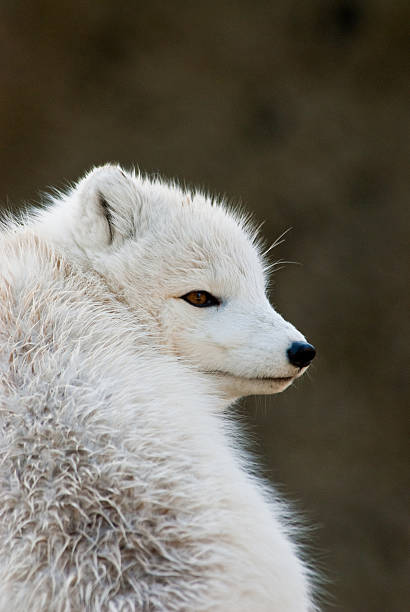arcticfox: (132, 208, 298, 389)
